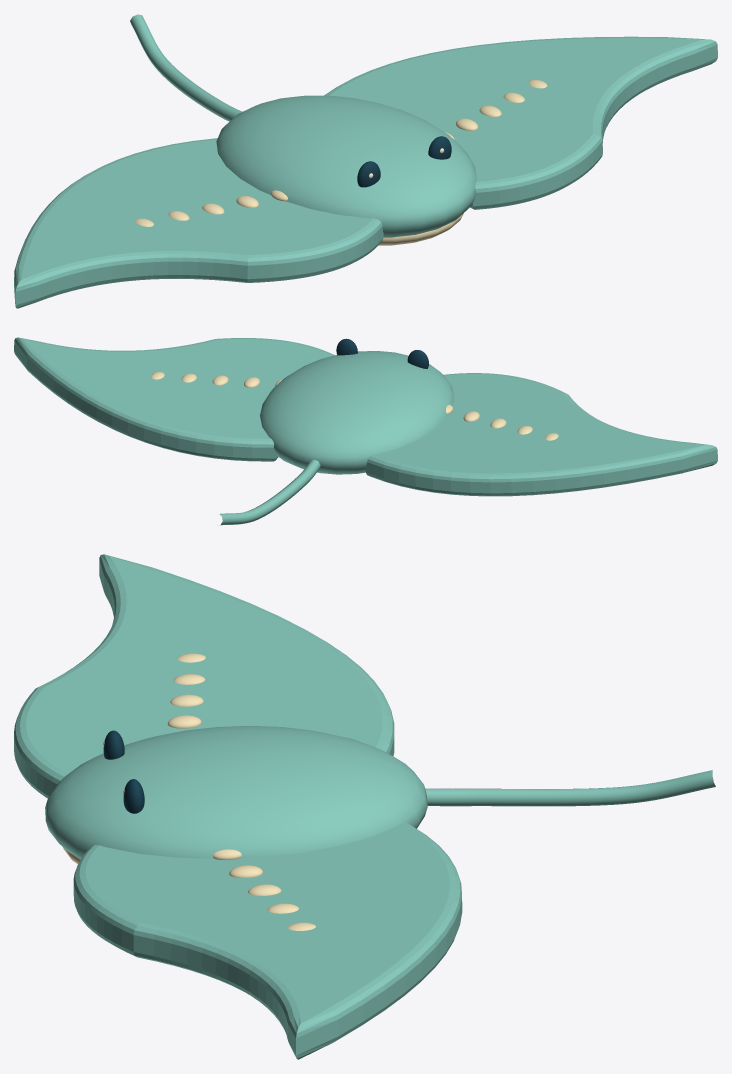
File: ray.gltf
3 renders of one model, top to bottom at view 1: azimuth 30°, elevation 25°; view 2: azimuth 150°, elevation 25°; view 3: azimuth 270°, elevation 25°, orthographic. The views are drawn at different scales.
Parts seen in each view (by area): view 1: Group (×3); view 2: Group (×3); view 3: Group (×3).
Part boxes in pixels (left/top/right/bottom): Group (×3): left=14, top=14, right=717, bottom=308; Group (×3): left=14, top=337, right=717, bottom=525; Group (×3): left=14, top=554, right=715, bottom=1059.
Bounding box in the file's own units: 4.29 × 0.478 × 2.66.
